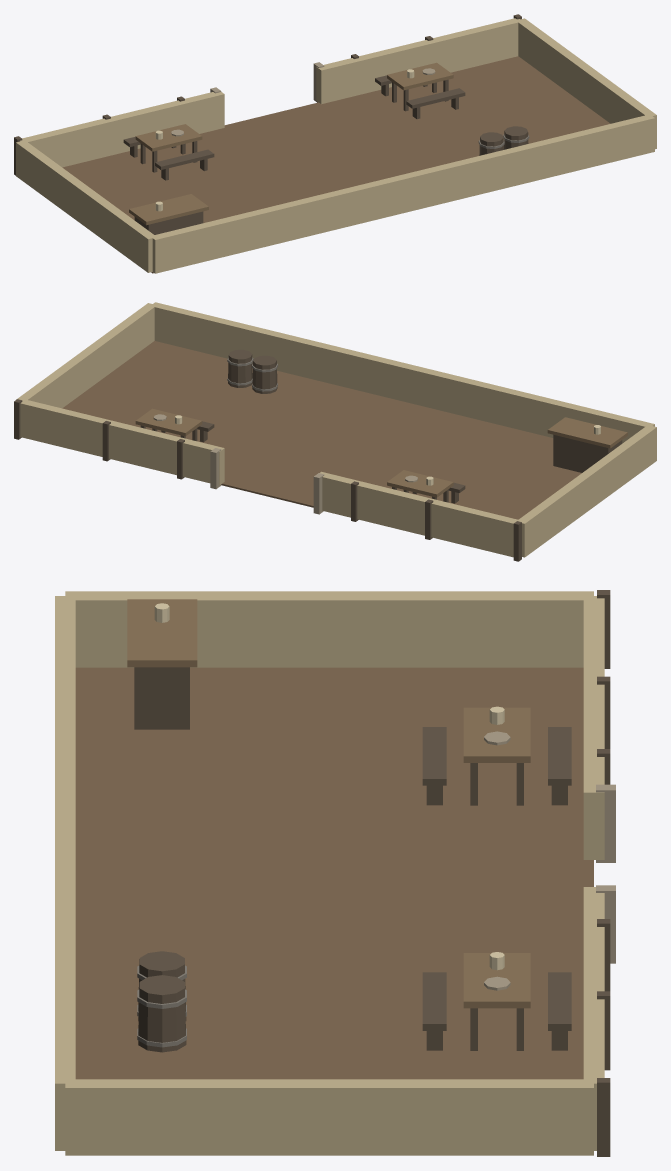
File: WalkTown_Tavern_Structure.fbx
3 views of the same model, one above another, from view 1: azimuth 30°, elevation 25°; view 2: azimuth 150°, elevation 25°; view 3: azimuth 270°, elevation 25° (orthographic). The views are drawn at different scales.
Parts seen in each view (by area): view 1: WalkTown_Tavern_Structure; view 2: WalkTown_Tavern_Structure; view 3: WalkTown_Tavern_Structure.
Part boxes in pixels (left/top/right/bottom): WalkTown_Tavern_Structure: left=14, top=14, right=656, bottom=273; WalkTown_Tavern_Structure: left=14, top=302, right=656, bottom=561; WalkTown_Tavern_Structure: left=55, top=590, right=615, bottom=1156.
Size of the model in its own units: 15.78 by 1.34 by 7.54.
